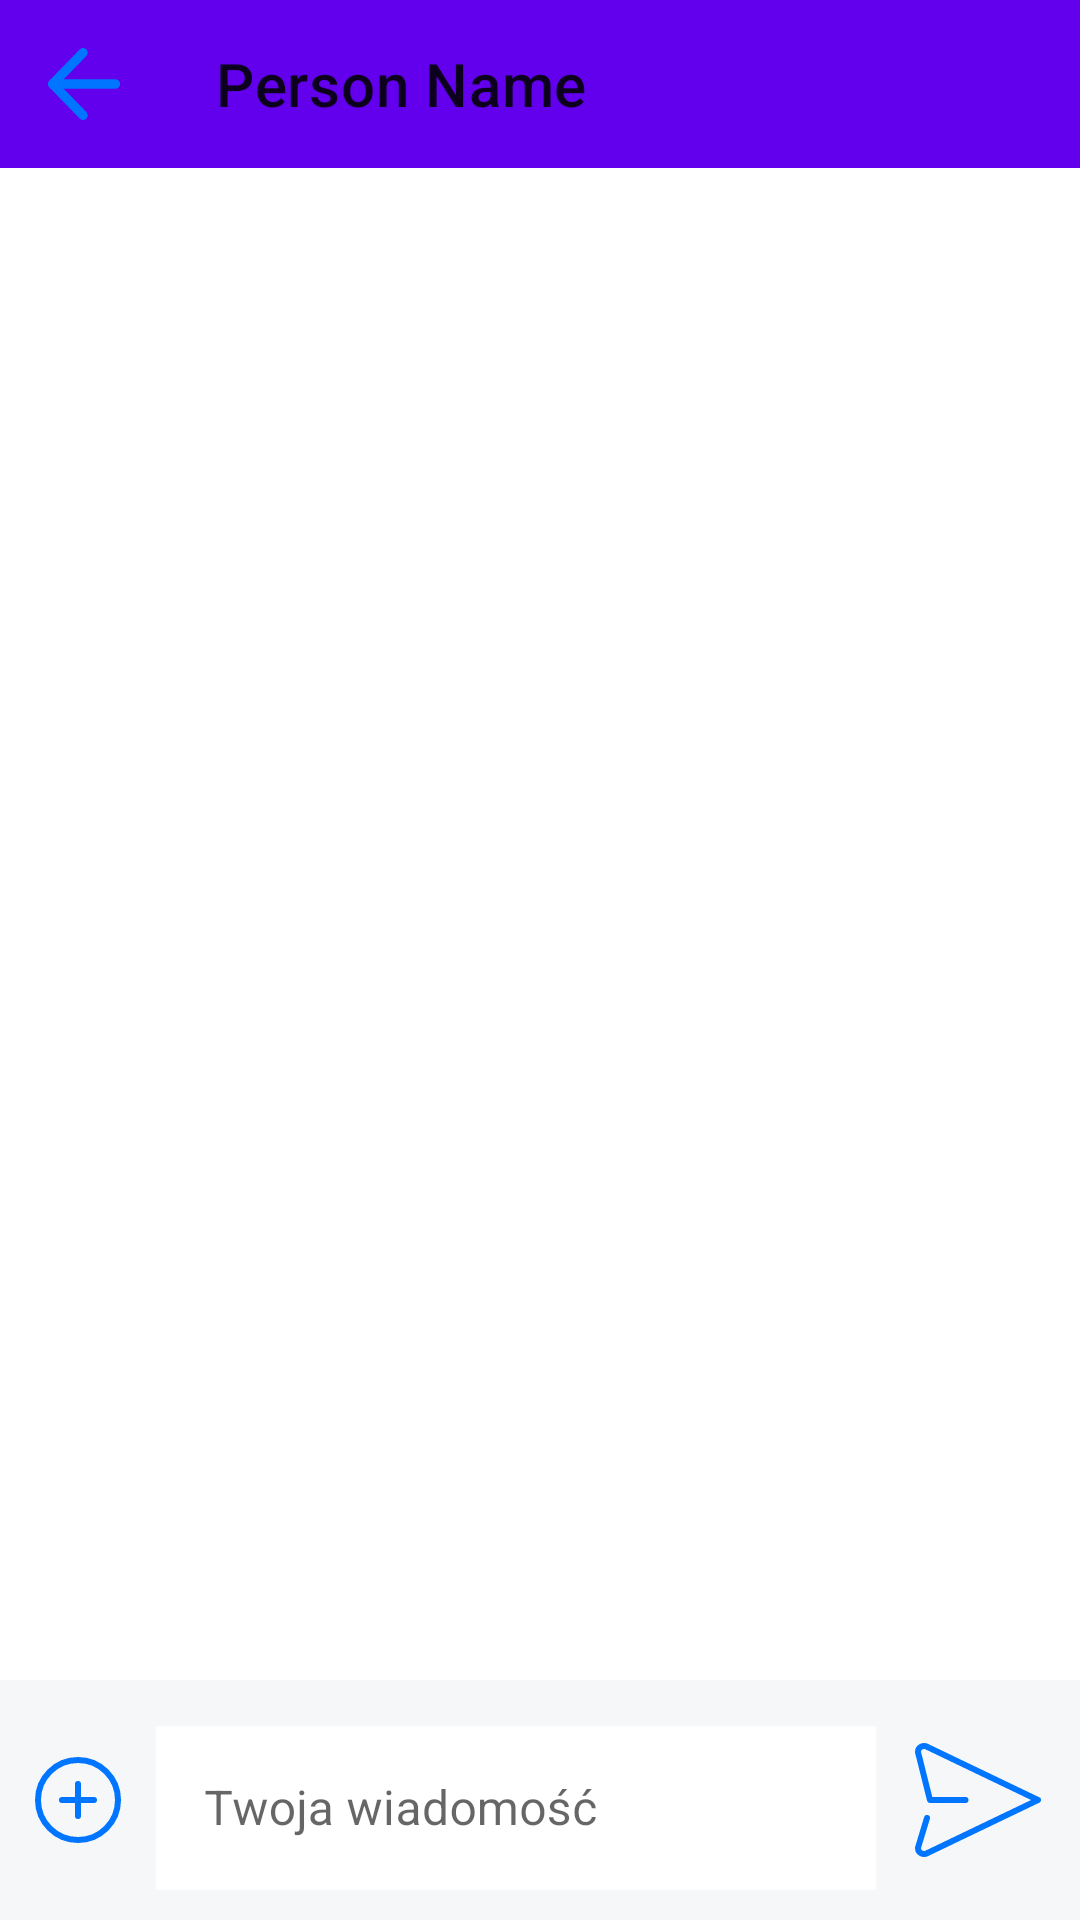

Where icons sit on this 1080px x 1920px app screen, as (x1, y1, x2, y2):
attach: (35, 1757, 121, 1843)
send: (915, 1743, 1041, 1857)
